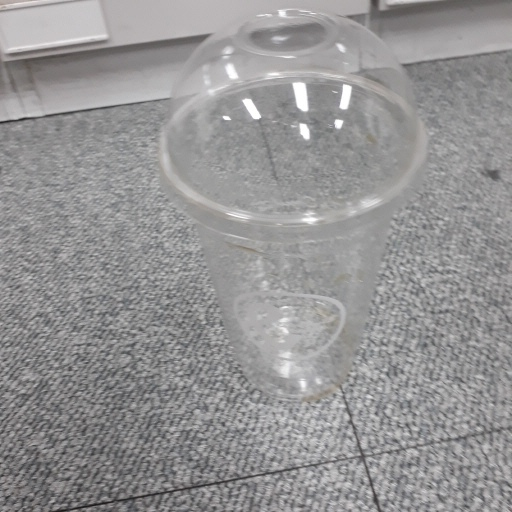Plastic_2: (153, 7, 428, 402)
